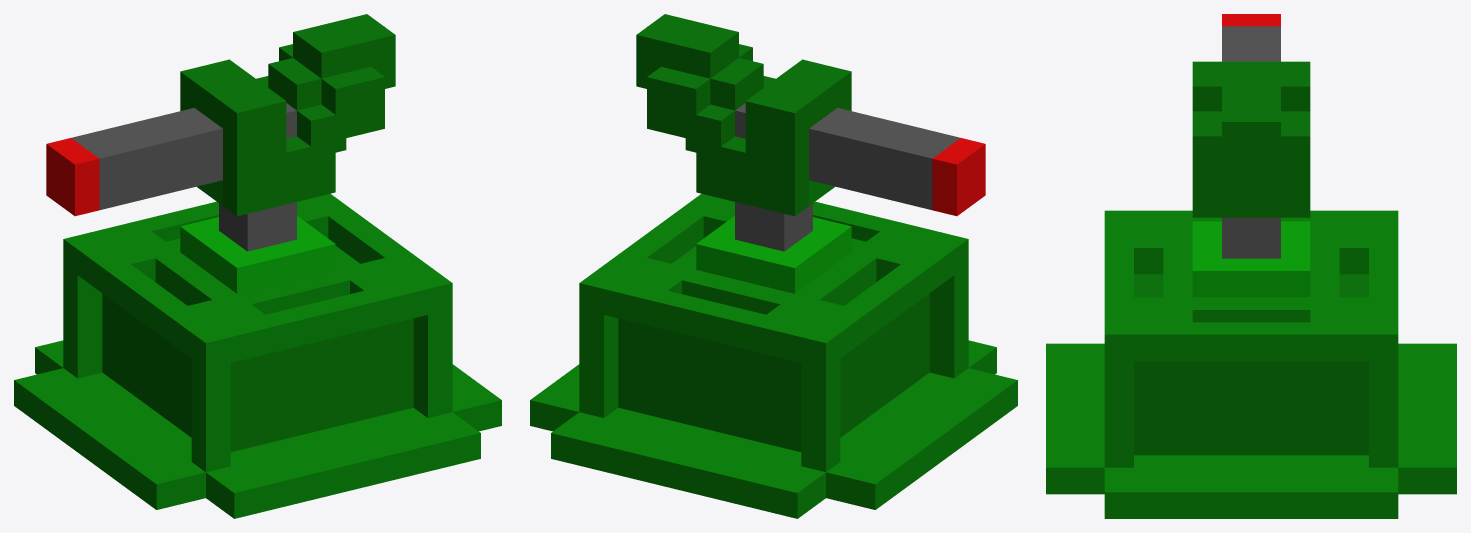
The model's file is canon_tower.obj.
3 views of the same model, side by side, from view 1: azimuth 30°, elevation 25°; view 2: azimuth 150°, elevation 25°; view 3: azimuth 270°, elevation 25° (orthographic). The views are drawn at different scales.
Bounding box in the file's own units: 1.5 × 1.4 × 1.4.
Materials: 1 (1 with a texture image).
